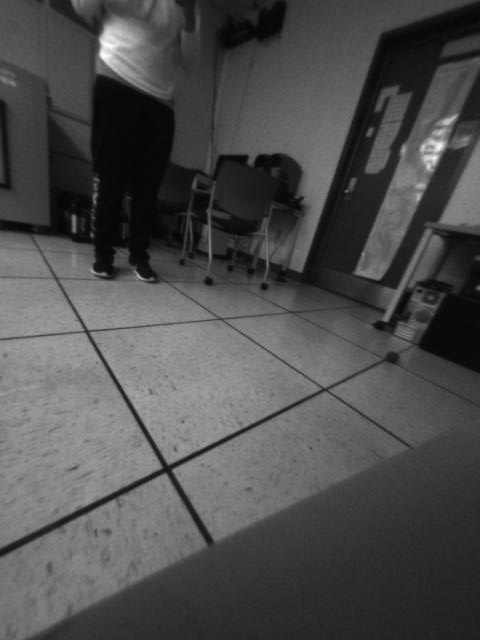dogtoy: (379, 342, 408, 371)
